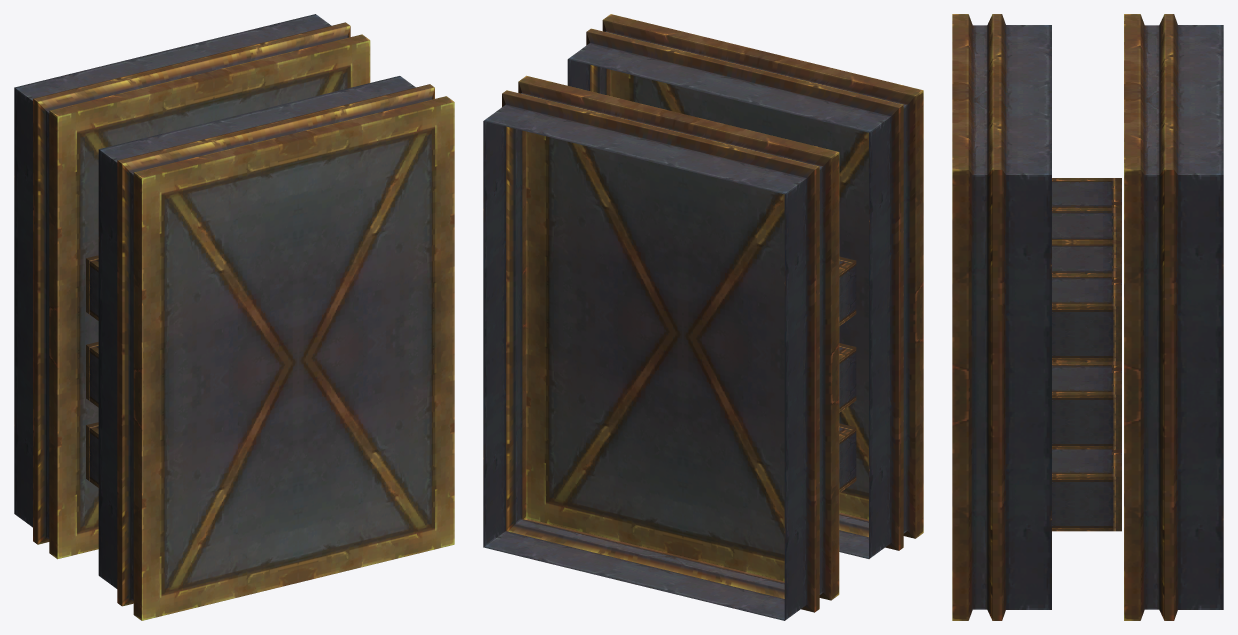
File: huodong_fuben_648_shidun.obj
3 renders of one model, left to right at view 1: azimuth 30°, elevation 25°; view 2: azimuth 150°, elevation 25°; view 3: azimuth 270°, elevation 25°, orthographic.
Visible parts, largest first — view 1: huodong_fuben_648_shidun; view 2: huodong_fuben_648_shidun; view 3: huodong_fuben_648_shidun.
Part boxes in pixels (<box>): huodong_fuben_648_shidun: <box>14,14,454,620</box>; huodong_fuben_648_shidun: <box>483,14,923,620</box>; huodong_fuben_648_shidun: <box>952,14,1223,620</box>.
Size of the model in its own units: 110 by 149 by 81.11.
1 material, 1 textured.
